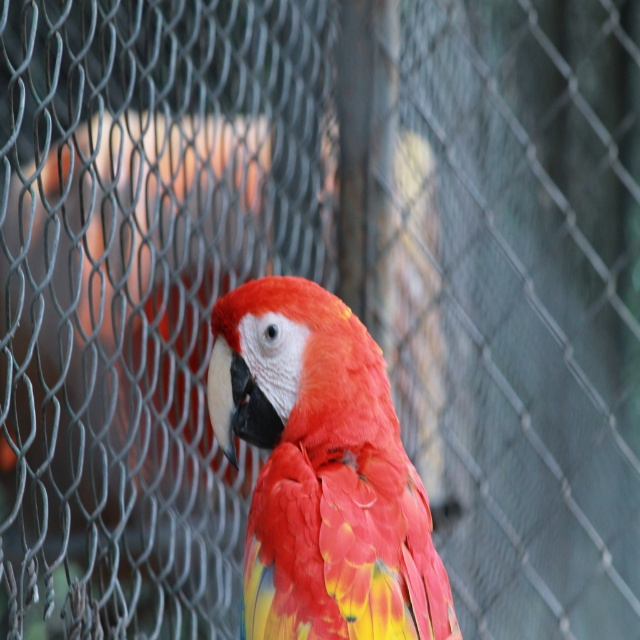Parrot: (206, 275, 462, 639)
